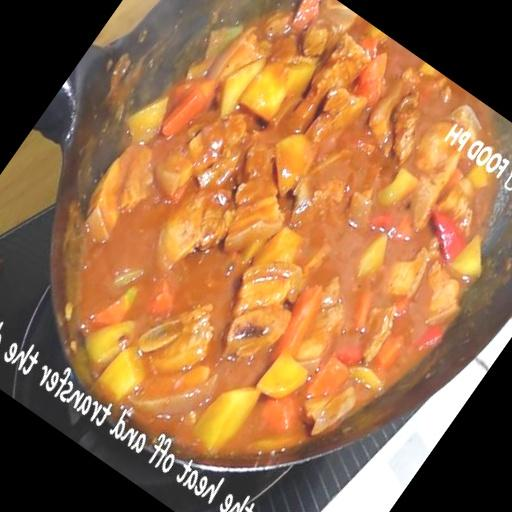pork caldereta: (72, 0, 496, 462)
